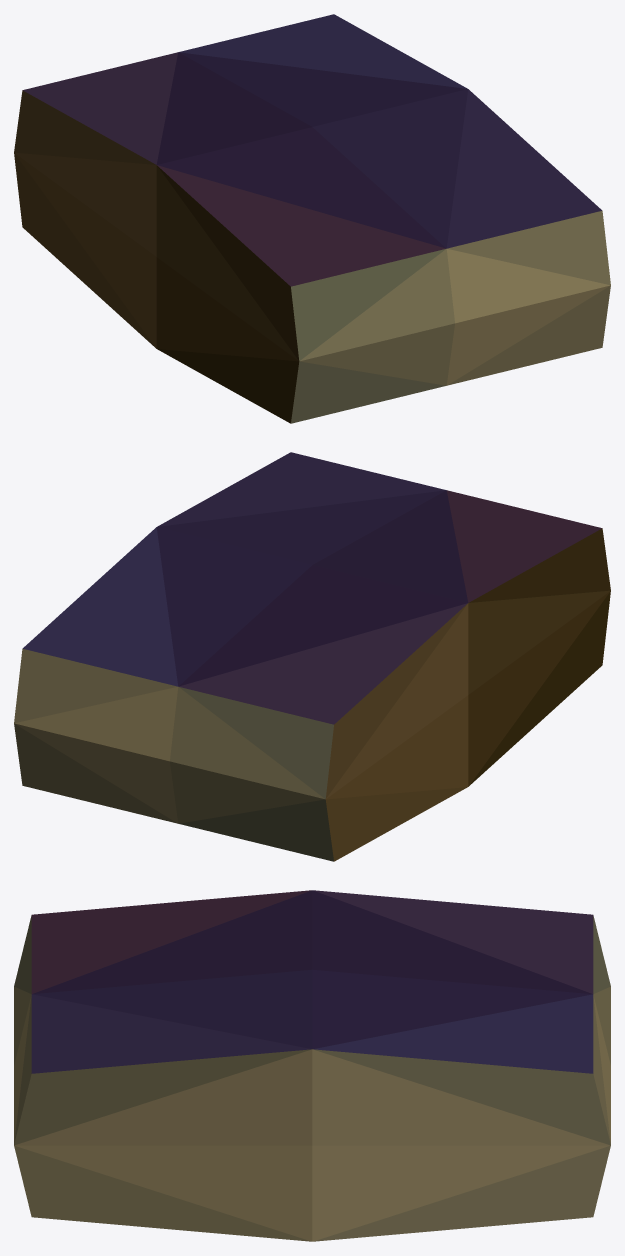
File: prop_literature_book11.fbx
3 views of the same model, one above another, from view 1: azimuth 30°, elevation 25°; view 2: azimuth 150°, elevation 25°; view 3: azimuth 270°, elevation 25° (orthographic). The views are drawn at different scales.
Parts seen in each view (by area): view 1: prop_literature_book11; view 2: prop_literature_book11; view 3: prop_literature_book11.
Boxes of the visible parts, x1,y1,x2,y2 form: prop_literature_book11: (14, 14, 610, 423); prop_literature_book11: (14, 452, 610, 861); prop_literature_book11: (14, 890, 610, 1241).
Size of the model in its own units: 0.3895 by 0.2197 by 0.6175.
